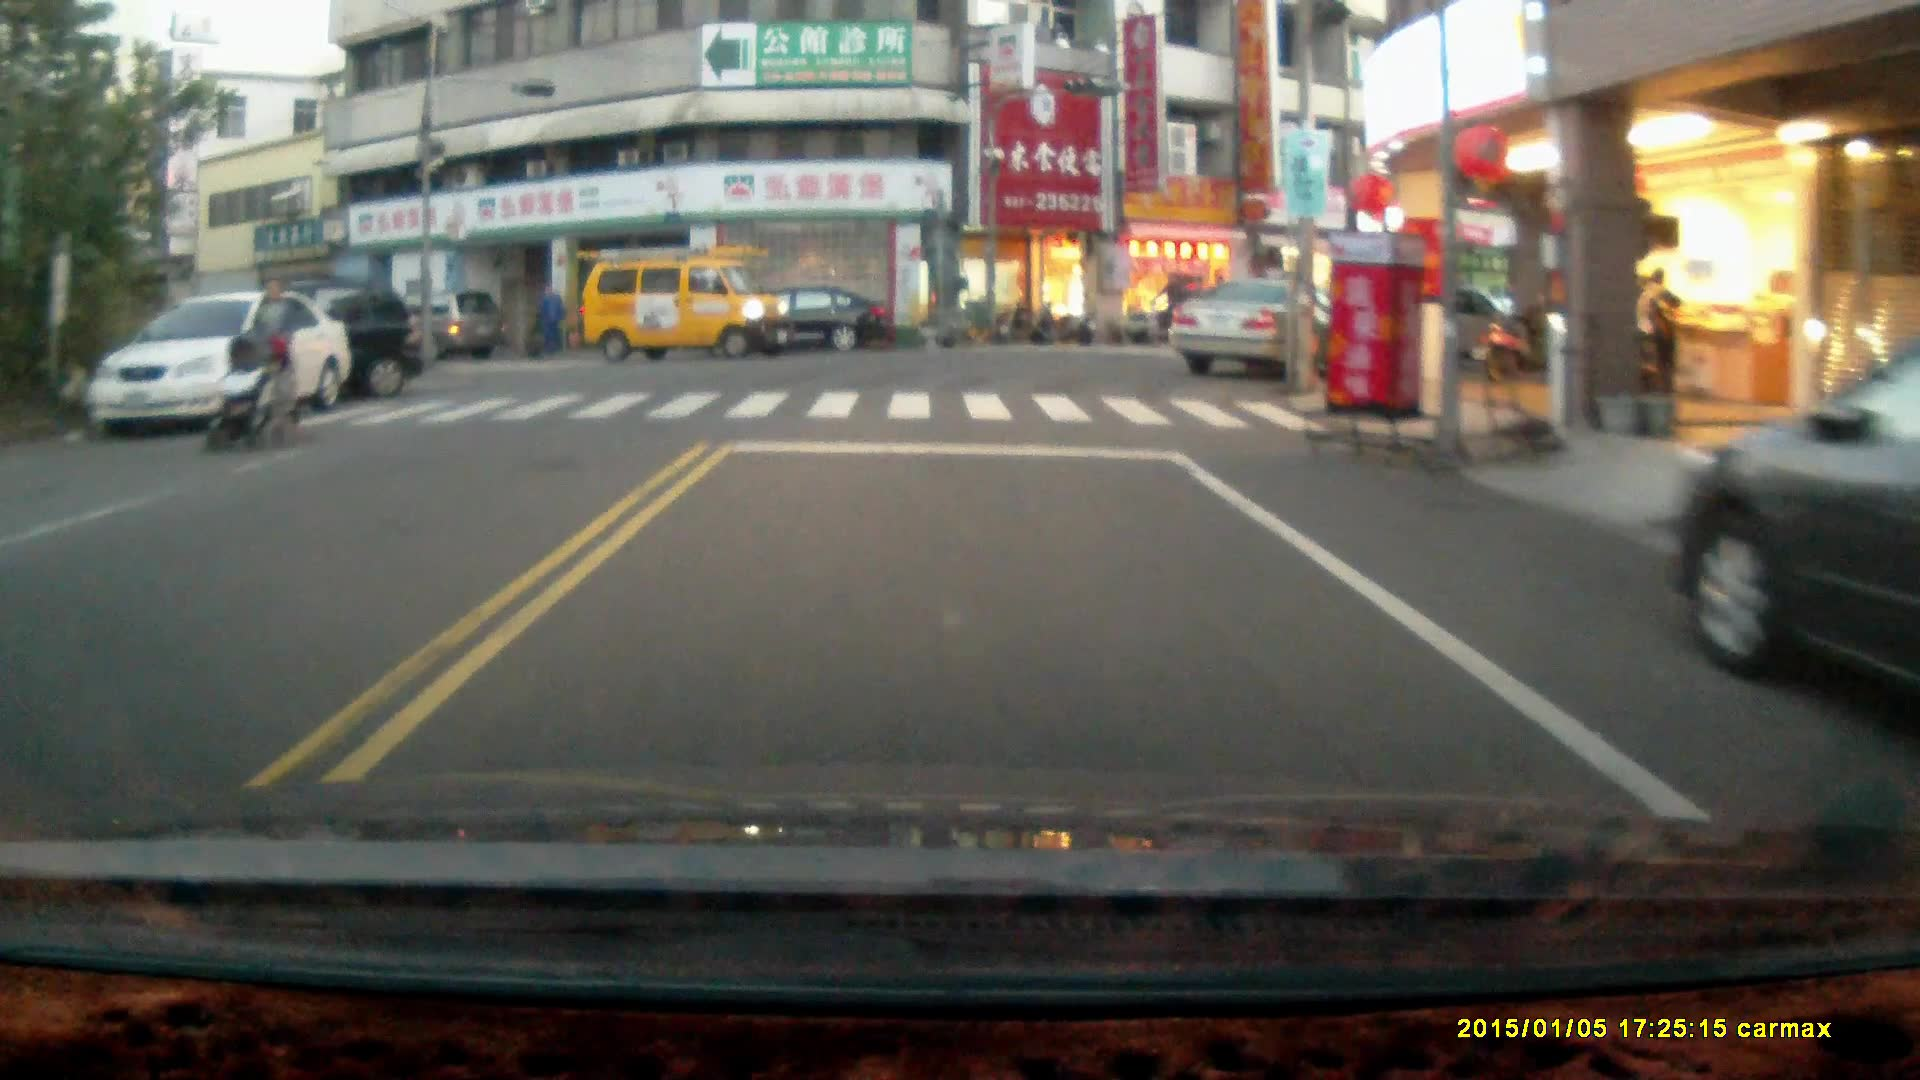pedestrian: (250, 269, 294, 418), (1644, 265, 1681, 403), (538, 282, 565, 357)
rider: (200, 322, 294, 452), (1129, 262, 1190, 346)
vehicle: (78, 291, 350, 442), (165, 276, 420, 402), (582, 242, 795, 358), (1173, 275, 1349, 378), (718, 285, 889, 359), (379, 290, 512, 366)
